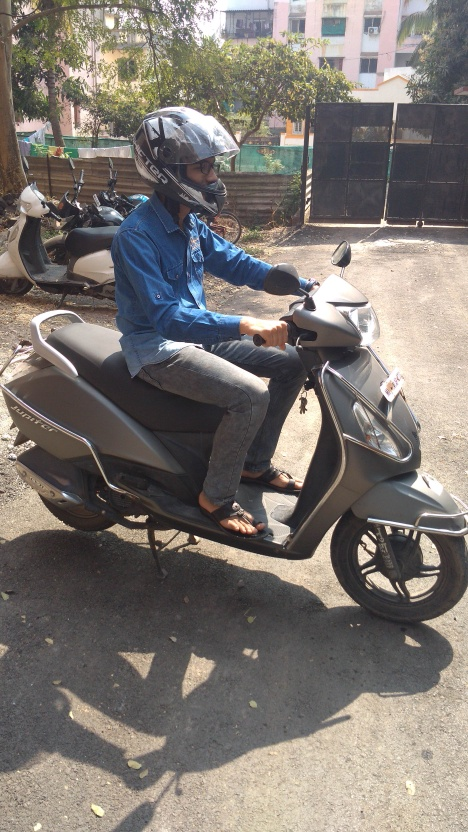helmet: (134, 102, 234, 224)
